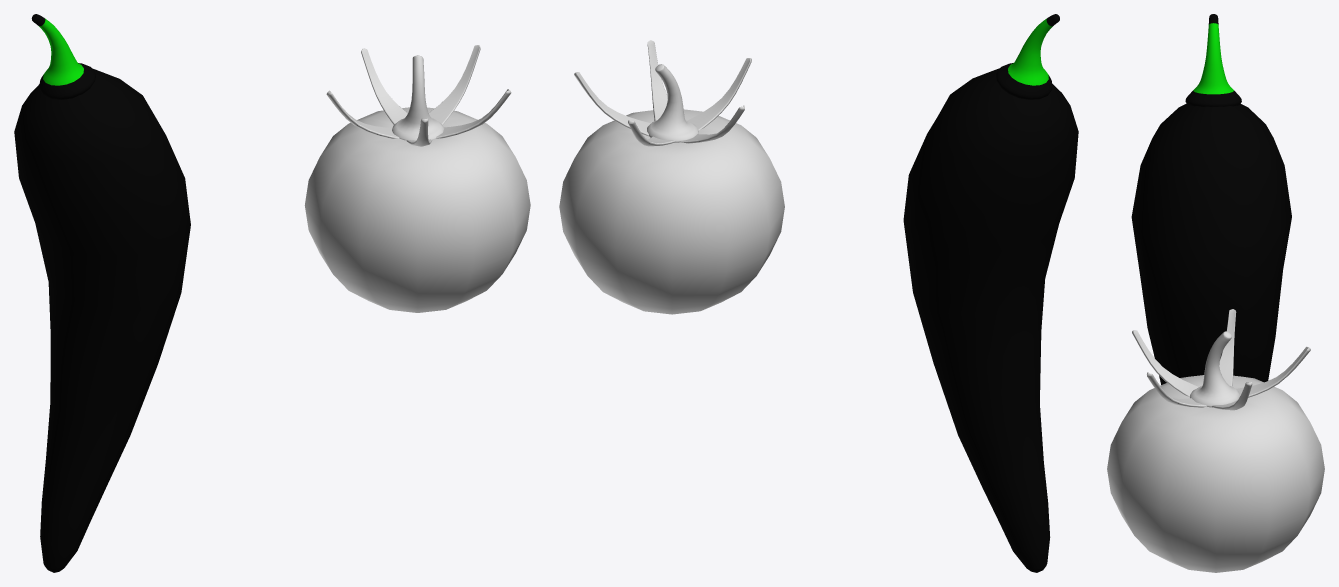
Rendered from MD_Cooking_Skewers_11.fbx.
3 views of the same model, side by side, from view 1: azimuth 30°, elevation 25°; view 2: azimuth 150°, elevation 25°; view 3: azimuth 270°, elevation 25° (orthographic). The views are drawn at different scales.
Visible parts, largest first — view 1: MD_Cooking_Chili_low, MD_Cooking_Tomato_low; view 2: MD_Cooking_Chili_low, MD_Cooking_Tomato_low; view 3: MD_Cooking_Chili_low, MD_Cooking_Tomato_low.
Part boxes in pixels (<box>): MD_Cooking_Chili_low: <box>14,14,190,572</box>; MD_Cooking_Tomato_low: <box>304,45,530,312</box>; MD_Cooking_Chili_low: <box>903,14,1078,572</box>; MD_Cooking_Tomato_low: <box>559,40,784,314</box>; MD_Cooking_Chili_low: <box>1131,14,1291,384</box>; MD_Cooking_Tomato_low: <box>1107,309,1324,572</box>.
Bounding box in the file's own units: 1.57 × 1.71 × 0.6218.
